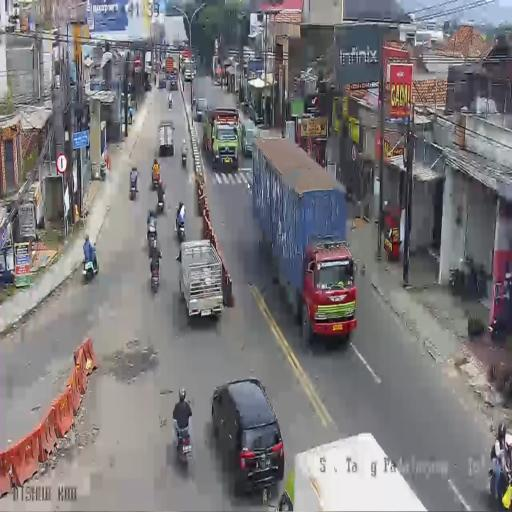car: (211, 378, 284, 496), (238, 116, 258, 158), (158, 120, 174, 156), (194, 96, 208, 123), (158, 74, 166, 88), (214, 73, 221, 86), (192, 66, 196, 80)
motorcycle: (173, 410, 193, 466), (150, 257, 160, 292), (176, 212, 186, 243), (156, 185, 165, 214), (129, 174, 138, 201), (180, 148, 186, 168), (168, 94, 172, 109)
truck: (251, 135, 345, 345), (204, 106, 240, 170), (164, 54, 178, 89), (181, 51, 194, 83)
